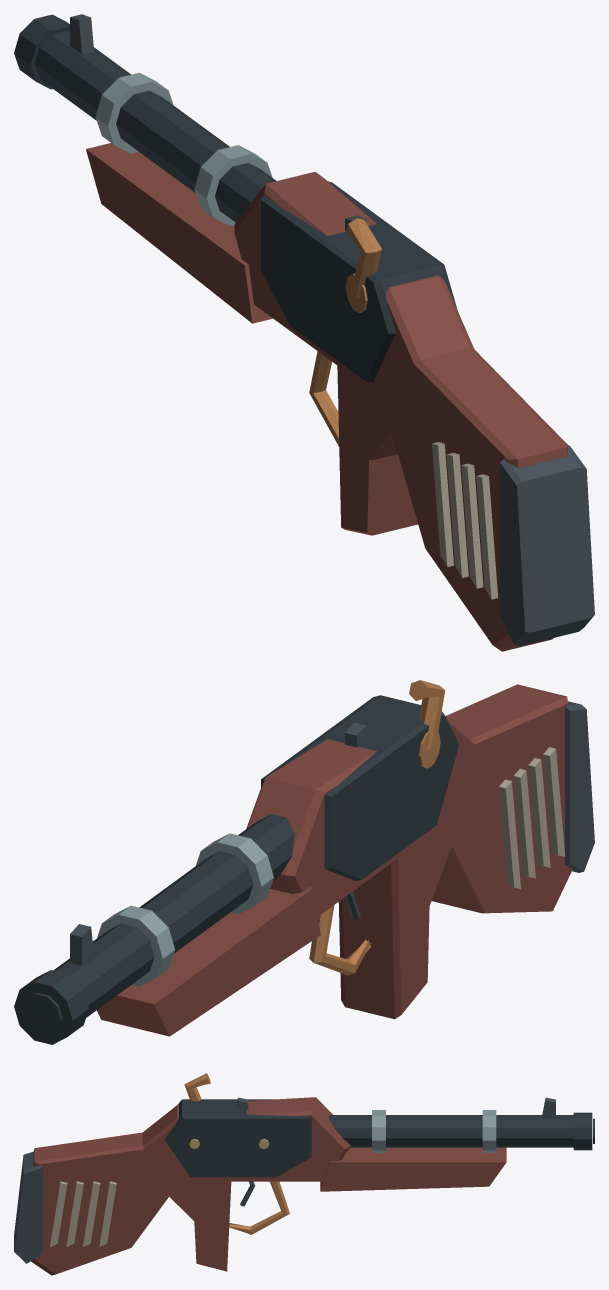
File: AEW_Longgun_GraveWarden.fbx
The picture shows the model from 3 angles, top to bottom: view 1: azimuth 30°, elevation 25°; view 2: azimuth 150°, elevation 25°; view 3: azimuth 270°, elevation 25°; orthographic projection. The views are drawn at different scales.
Visible parts, largest first — view 1: AEW_Longgun_GraveWarden; view 2: AEW_Longgun_GraveWarden; view 3: AEW_Longgun_GraveWarden.
Boxes of the visible parts, x1,y1,x2,y2 form: AEW_Longgun_GraveWarden: (14, 14, 594, 651); AEW_Longgun_GraveWarden: (14, 680, 594, 1044); AEW_Longgun_GraveWarden: (14, 1073, 594, 1275).
Size of the model in its own units: 0.1201 by 0.4759 by 1.34.
